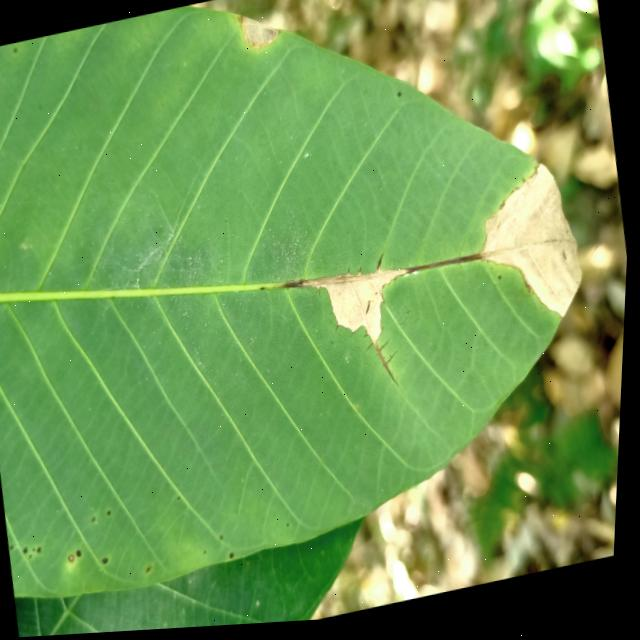Colletotrichum: (72, 555, 80, 564), (107, 559, 114, 567), (80, 552, 87, 559), (150, 569, 157, 576), (32, 554, 38, 562), (27, 547, 33, 554), (41, 547, 47, 554), (95, 518, 101, 525), (110, 511, 115, 519), (234, 555, 239, 562), (397, 97, 402, 104), (499, 281, 504, 288), (13, 545, 18, 552), (223, 538, 228, 543), (181, 499, 186, 504), (36, 548, 41, 553), (290, 526, 294, 531)
Corynespora: (362, 335, 406, 397)
Leaf-Blight: (467, 162, 595, 341), (325, 265, 419, 355), (238, 12, 280, 55)
